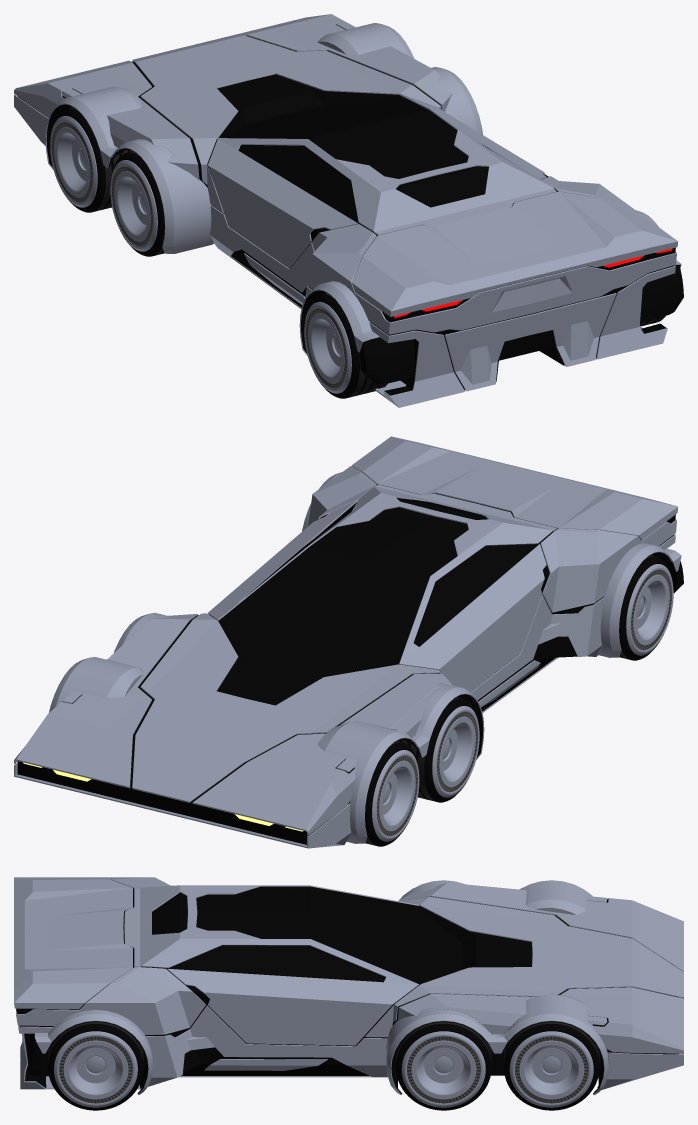
The model's file is sci-fi_car2.glb.
The picture shows the model from 3 angles, top to bottom: view 1: azimuth 30°, elevation 25°; view 2: azimuth 150°, elevation 25°; view 3: azimuth 270°, elevation 25°; orthographic projection. The views are drawn at different scales.
Visible parts, largest first — view 1: Cube.011, Cube.013, Cube.012, Circle.001, Circle.002, SFV_wheel_01|Plane.006|Dupli|4, SFV_wheel_01.002|Plane.006|Dupli|4, SFV_wheel_01.001|Plane.006|Dupli|4, SFV_wheel_01.002|Plane.002|Dupli|, SFV_wheel_01|Plane.002|Dupli|, SFV_wheel_01.001|Plane.002|Dupli|, SFV_wheel_01|Plane.003|Dupli|1 (+6 smaller); view 2: Cube.011, Cube.013, Cube.012, Circle.001, SFV_wheel_01|Plane.006|Dupli|4, SFV_wheel_01.001|Plane.006|Dupli|4, SFV_wheel_01.002|Plane.006|Dupli|4, SFV_wheel_01.001|Plane.002|Dupli|, SFV_wheel_01.002|Plane.002|Dupli|, SFV_wheel_01|Plane.002|Dupli|, SFV_wheel_01.002|Plane.003|Dupli|1, SFV_wheel_01.001|Plane.003|Dupli|1 (+4 smaller); view 3: Cube.011, Cube.013, Cube.012, Circle.001, SFV_wheel_01.004|Plane.006|Dupli|4, SFV_wheel_01.003|Plane.006|Dupli|4, SFV_wheel_01.005|Plane.006|Dupli|4, SFV_wheel_01.004|Plane.002|Dupli|, SFV_wheel_01.005|Plane.002|Dupli|, SFV_wheel_01.003|Plane.002|Dupli|, SFV_wheel_01.003|Plane.003|Dupli|1, SFV_wheel_01.004|Plane.003|Dupli|1 (+6 smaller).
Boxes of the visible parts, bbox=[...] form: Cube.011: bbox=[14, 14, 677, 407]; Cube.013: bbox=[230, 97, 491, 204]; Cube.012: bbox=[17, 24, 675, 395]; Circle.001: bbox=[45, 23, 681, 355]; Circle.002: bbox=[359, 266, 683, 384]; SFV_wheel_01|Plane.006|Dupli|4: bbox=[54, 126, 90, 197]; SFV_wheel_01.002|Plane.006|Dupli|4: bbox=[308, 313, 344, 383]; SFV_wheel_01.001|Plane.006|Dupli|4: bbox=[114, 171, 150, 241]; SFV_wheel_01.002|Plane.002|Dupli|: bbox=[304, 294, 387, 398]; SFV_wheel_01|Plane.002|Dupli|: bbox=[50, 108, 130, 212]; SFV_wheel_01.001|Plane.002|Dupli|: bbox=[110, 152, 164, 256]; SFV_wheel_01|Plane.003|Dupli|1: bbox=[50, 116, 97, 207]; Cube.011: bbox=[14, 436, 677, 848]; Cube.013: bbox=[230, 498, 503, 678]; Cube.012: bbox=[17, 474, 675, 844]; Circle.001: bbox=[49, 472, 681, 843]; SFV_wheel_01|Plane.006|Dupli|4: bbox=[379, 760, 415, 831]; SFV_wheel_01.001|Plane.006|Dupli|4: bbox=[439, 716, 475, 787]; SFV_wheel_01.002|Plane.006|Dupli|4: bbox=[633, 574, 669, 645]; SFV_wheel_01.001|Plane.002|Dupli|: bbox=[399, 698, 479, 802]; SFV_wheel_01.002|Plane.002|Dupli|: bbox=[604, 556, 673, 660]; SFV_wheel_01|Plane.002|Dupli|: bbox=[365, 742, 419, 846]; SFV_wheel_01.002|Plane.003|Dupli|1: bbox=[626, 564, 673, 655]; SFV_wheel_01.001|Plane.003|Dupli|1: bbox=[432, 706, 479, 797]; Cube.011: bbox=[14, 877, 683, 1090]; Cube.013: bbox=[154, 888, 458, 981]; Cube.012: bbox=[16, 886, 678, 1087]; Circle.001: bbox=[34, 880, 608, 1095]; SFV_wheel_01.004|Plane.006|Dupli|4: bbox=[411, 1040, 476, 1099]; SFV_wheel_01.003|Plane.006|Dupli|4: bbox=[519, 1040, 584, 1099]; SFV_wheel_01.005|Plane.006|Dupli|4: bbox=[63, 1040, 128, 1099]; SFV_wheel_01.004|Plane.002|Dupli|: bbox=[396, 1023, 491, 1110]; SFV_wheel_01.005|Plane.002|Dupli|: bbox=[48, 1023, 143, 1110]; SFV_wheel_01.003|Plane.002|Dupli|: bbox=[504, 1023, 599, 1110]; SFV_wheel_01.003|Plane.003|Dupli|1: bbox=[509, 1031, 593, 1107]; SFV_wheel_01.004|Plane.003|Dupli|1: bbox=[401, 1031, 485, 1107].
Size of the model in its own units: 2.81 by 1.2 by 5.59.
